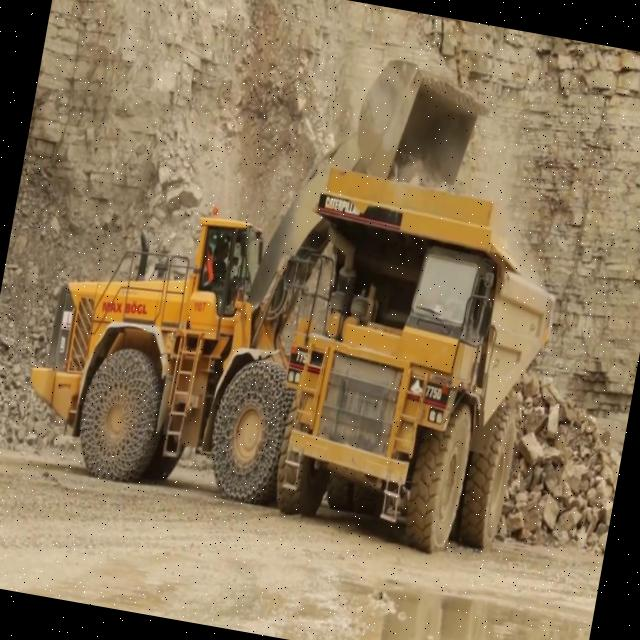Dump Truck: (261, 162, 573, 565)
Loader: (13, 2, 500, 533)
